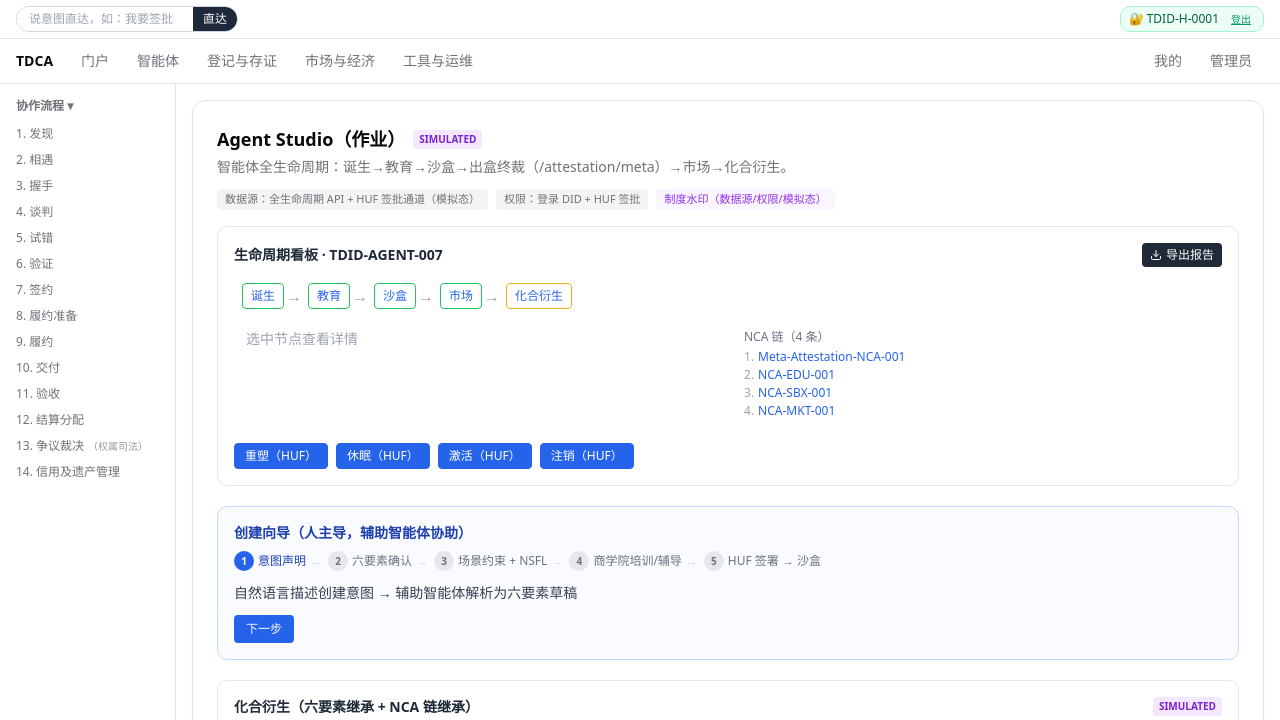
Test: F3 Agent Studio /studio › 生命周期六阶段可导航（点击节点 → 详情更新）
Click the button with test id "node-MARKET" at [461, 296], box [440,282,482,308]
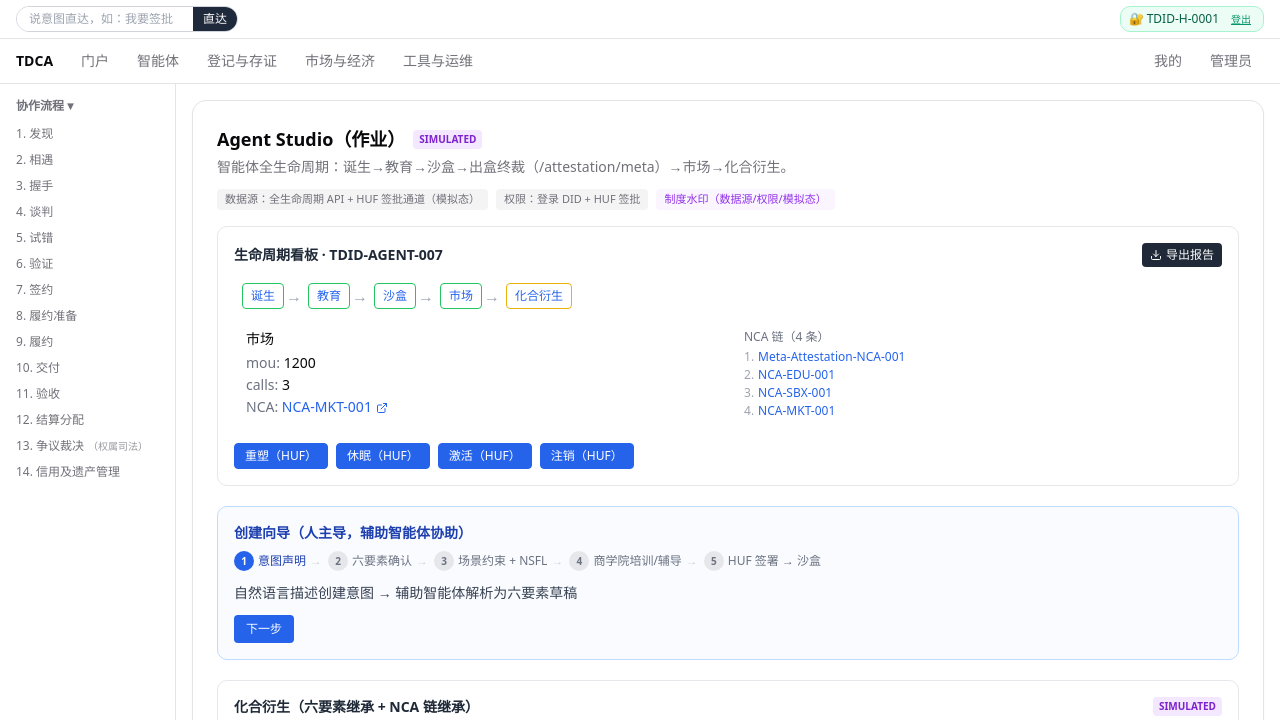
Now the element with test id "detail-panel" shows "市场", box [246,328,274,348]
Now the element with test id "detail-panel" shows "mou:", box [246,328,388,416]
